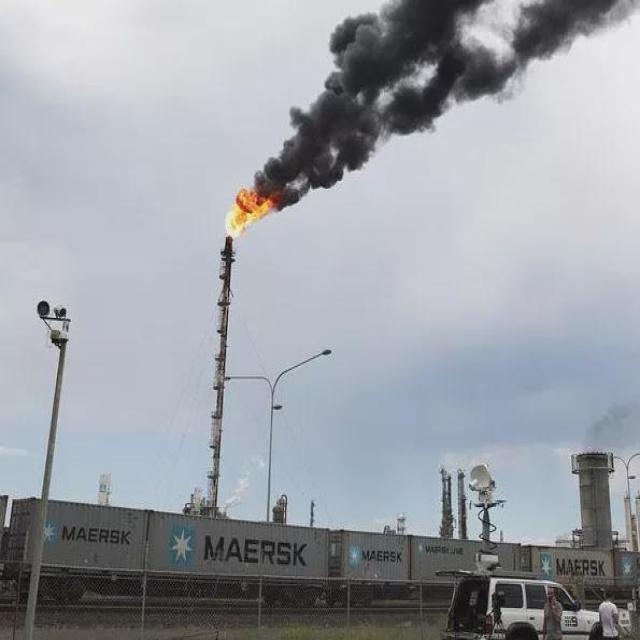Fire: (224, 182, 276, 240)
Smoke: (280, 0, 640, 208)
